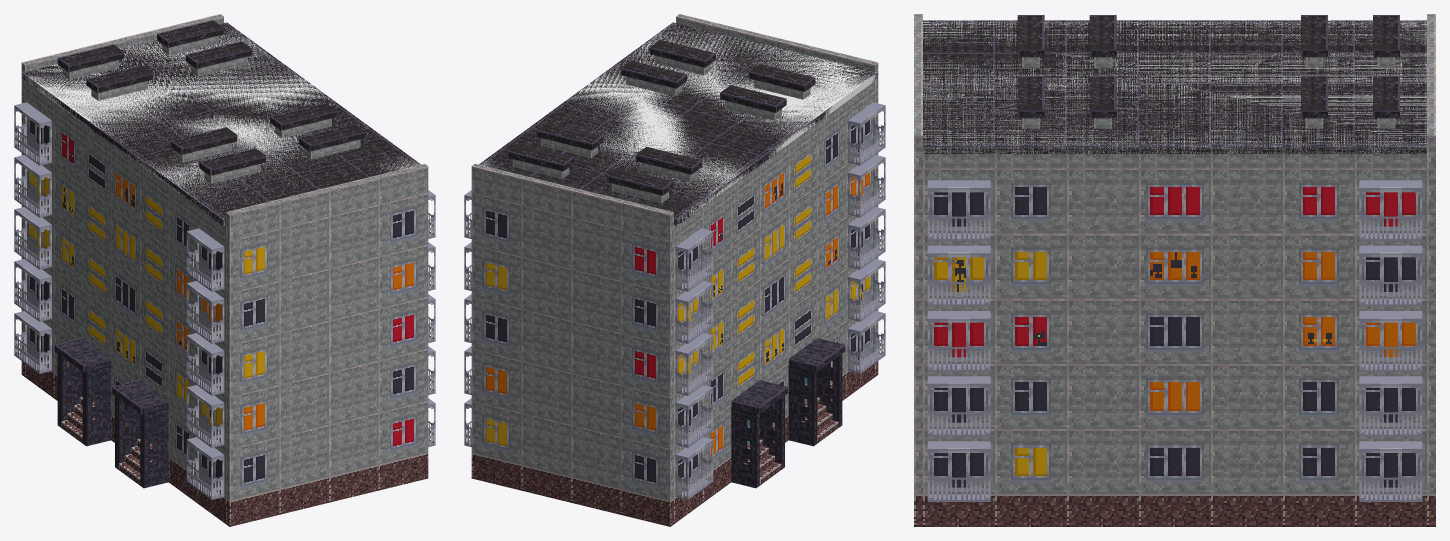
File: russian_panel_house.glb
The picture shows the model from 3 angles, left to right: view 1: azimuth 30°, elevation 25°; view 2: azimuth 150°, elevation 25°; view 3: azimuth 270°, elevation 25°; orthographic projection. The views are drawn at different scales.
Parts seen in each view (by area): view 1: cube_44, cube_226, cube_209, cube_210, cube_217, cube_225, cube_218, cube_222, cube_206, cube_214, cube_221, cube_213 (+82 smaller); view 2: cube_44, cube_226, cube_141, cube_126, cube_133, cube_134, cube_125, cube_122, cube_129, cube_130, cube_138, cube_137 (+87 smaller); view 3: cube_44, cube_226, cube_15, cube_16, cube_18, cube_19, cube_108, cube_109, cube_111, cube_112, cube_113, cube_114 (+57 smaller).
Boxes of the visible parts, left/top/right/bottom form: cube_44: left=22, top=22, right=420, bottom=225; cube_226: left=22, top=23, right=420, bottom=225; cube_209: left=226, top=229, right=279, bottom=292; cube_210: left=226, top=281, right=279, bottom=344; cube_217: left=226, top=333, right=279, bottom=396; cube_225: left=226, top=437, right=279, bottom=500; cube_218: left=226, top=385, right=279, bottom=448; cube_222: left=378, top=400, right=428, bottom=464; cube_206: left=378, top=192, right=428, bottom=256; cube_214: left=378, top=296, right=428, bottom=360; cube_221: left=378, top=348, right=428, bottom=412; cube_213: left=378, top=244, right=428, bottom=308; cube_44: left=479, top=22, right=877, bottom=225; cube_226: left=480, top=23, right=877, bottom=225; cube_141: left=620, top=229, right=673, bottom=292; cube_126: left=620, top=437, right=673, bottom=500; cube_133: left=620, top=333, right=673, bottom=396; cube_134: left=620, top=281, right=673, bottom=344; cube_125: left=620, top=385, right=673, bottom=448; cube_122: left=471, top=400, right=521, bottom=464; cube_129: left=471, top=348, right=521, bottom=412; cube_130: left=471, top=296, right=521, bottom=360; cube_138: left=471, top=192, right=521, bottom=256; cube_137: left=471, top=244, right=521, bottom=308; cube_44: left=923, top=20, right=1426, bottom=153; cube_226: left=923, top=20, right=1426, bottom=153; cube_15: left=1139, top=233, right=1210, bottom=298; cube_16: left=1139, top=298, right=1210, bottom=363; cube_18: left=1139, top=429, right=1210, bottom=494; cube_19: left=1139, top=168, right=1210, bottom=233; cube_108: left=1211, top=233, right=1282, bottom=298; cube_109: left=1211, top=429, right=1282, bottom=494; cube_111: left=1211, top=298, right=1282, bottom=363; cube_112: left=1211, top=168, right=1282, bottom=233; cube_113: left=1067, top=233, right=1138, bottom=298; cube_114: left=1067, top=429, right=1138, bottom=494.
Size of the model in its own units: 4.81 by 6.19 by 7.25.
Materials: 32 (31 with a texture image).
